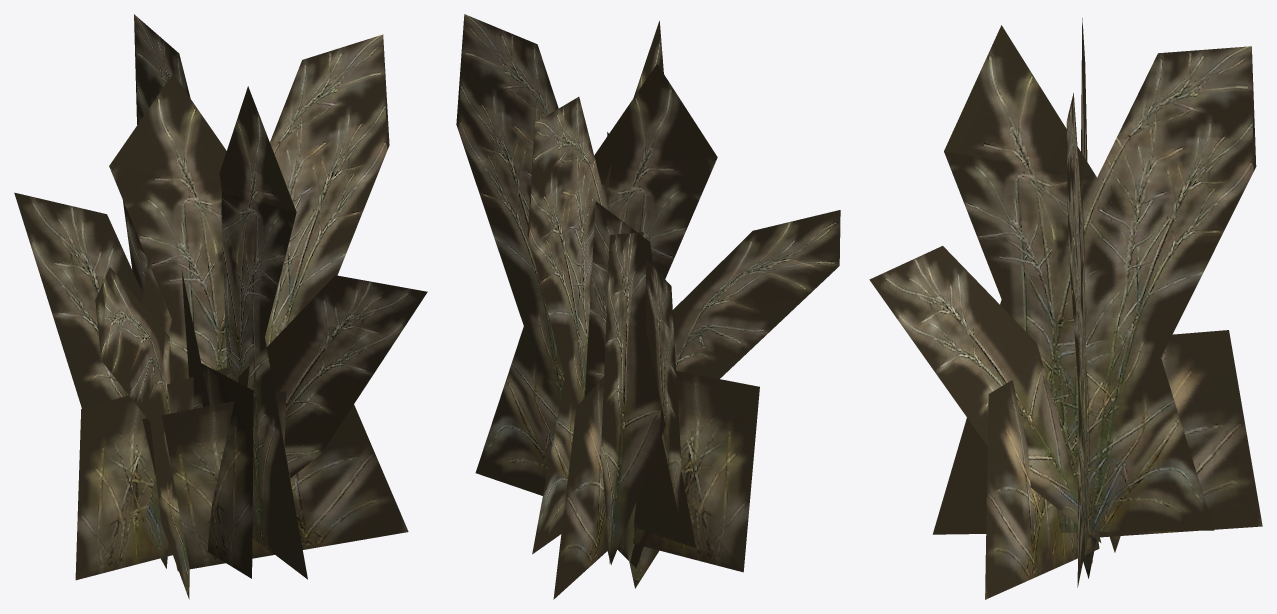
Rendered from Weed03.FBX.
3 renders of one model, left to right at view 1: azimuth 30°, elevation 25°; view 2: azimuth 150°, elevation 25°; view 3: azimuth 270°, elevation 25°, orthographic. The views are drawn at different scales.
Visible parts, largest first — view 1: LV_Spechia_Foliage_Wheat02_PM_IJH; view 2: LV_Spechia_Foliage_Wheat02_PM_IJH; view 3: LV_Spechia_Foliage_Wheat02_PM_IJH.
Part boxes in pixels (box(x1,y1,x2,y2)): LV_Spechia_Foliage_Wheat02_PM_IJH: box(14, 14, 427, 599); LV_Spechia_Foliage_Wheat02_PM_IJH: box(456, 14, 840, 599); LV_Spechia_Foliage_Wheat02_PM_IJH: box(869, 18, 1262, 599).
Size of the model in its own units: 38.38 by 58.1 by 36.79.
